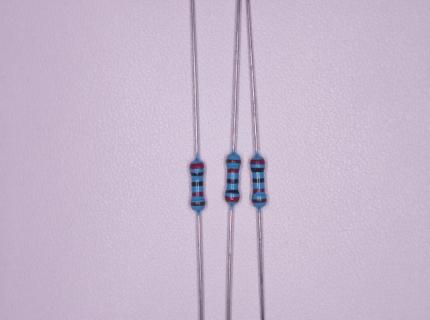Black band: (227, 178, 239, 184), (191, 181, 203, 187), (252, 178, 264, 183), (251, 168, 265, 172), (225, 190, 239, 194), (190, 172, 204, 176)
Brown band: (251, 198, 267, 204), (190, 201, 206, 206), (226, 159, 241, 164)
Red band: (189, 162, 204, 169), (224, 196, 240, 202), (250, 159, 265, 165), (227, 168, 239, 173), (253, 189, 265, 194), (192, 192, 204, 197)
